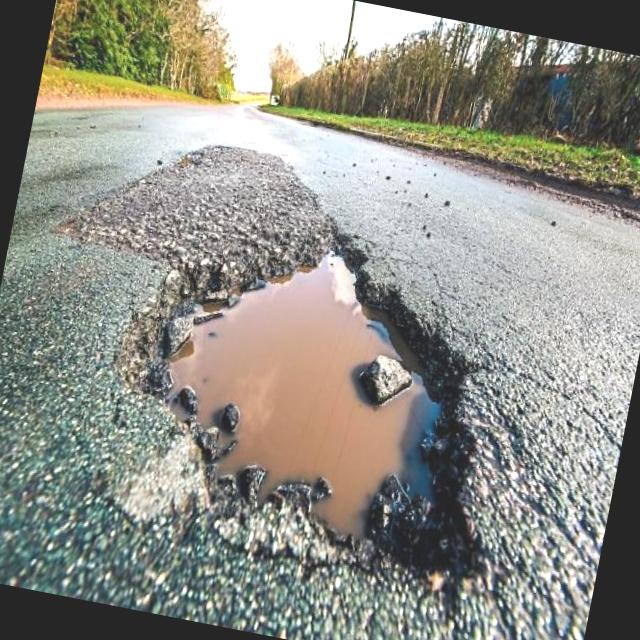pothole: (90, 185, 560, 602)
